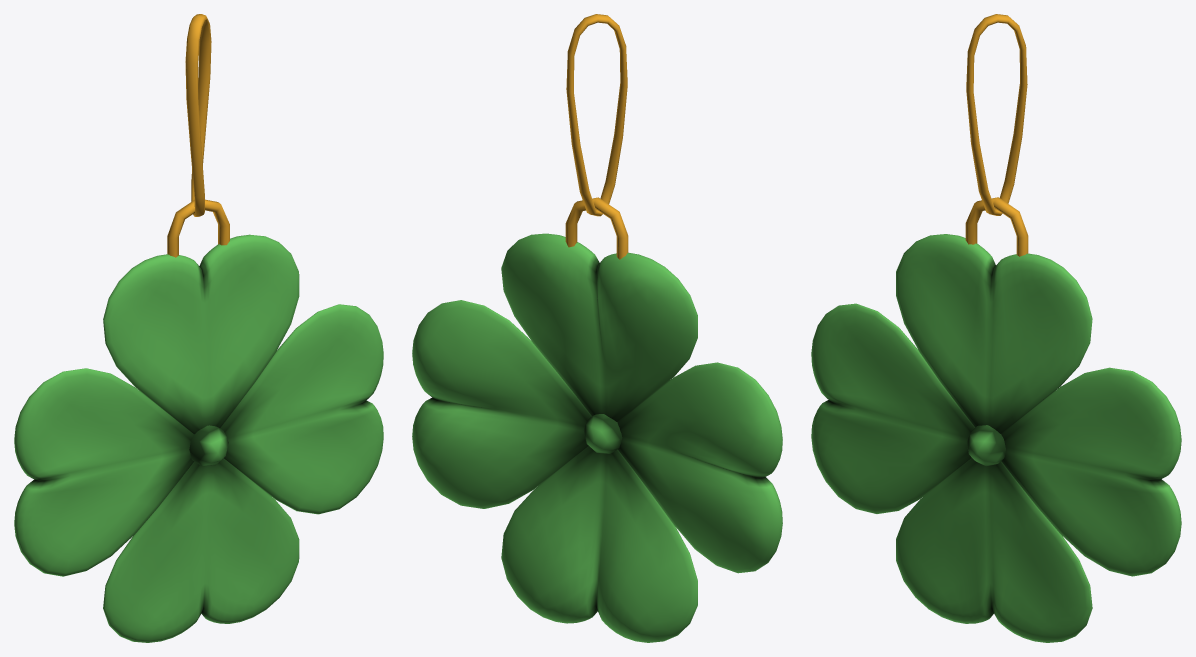
Rendered from Ball_Clover.fbx.
The picture shows the model from 3 angles, left to right: view 1: azimuth 30°, elevation 25°; view 2: azimuth 150°, elevation 25°; view 3: azimuth 330°, elevation 25°; orthographic projection.
Parts seen in each view (by area): view 1: Ball_Clover; view 2: Ball_Clover; view 3: Ball_Clover.
Boxes of the visible parts, x1,y1,x2,y2 form: Ball_Clover: (14,14,383,642); Ball_Clover: (412,14,782,642); Ball_Clover: (811,14,1181,642).
Size of the model in its own units: 5.42 by 8.65 by 0.8314.
